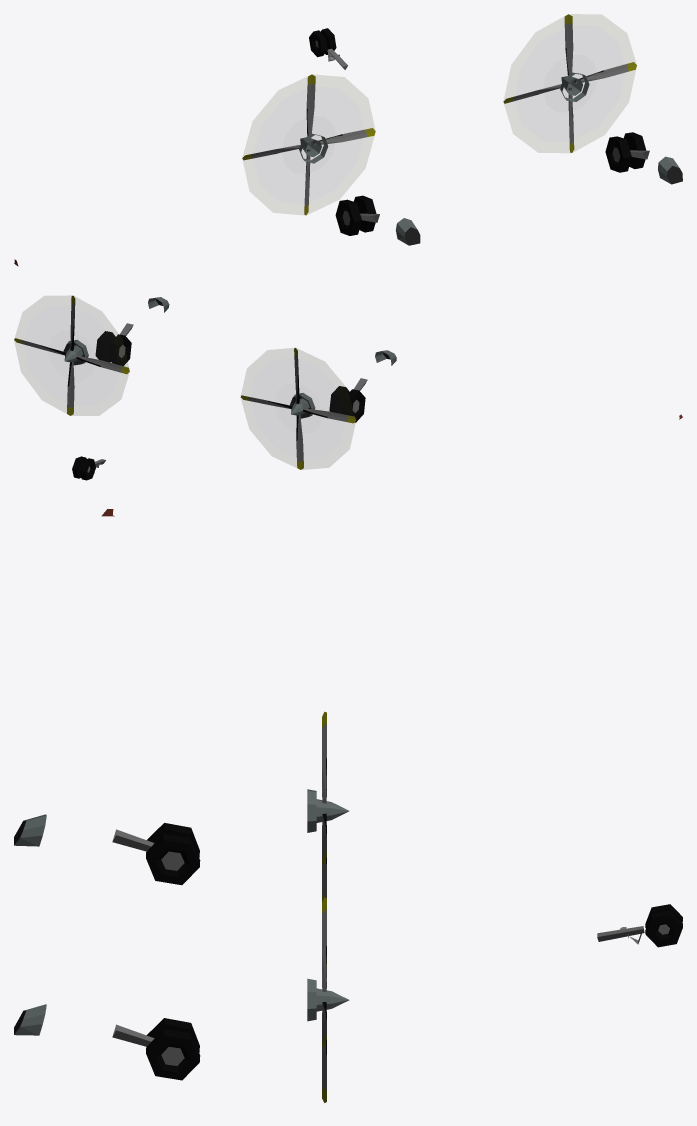
The model's file is propGearYS11.obj.
3 renders of one model, top to bottom at view 1: azimuth 30°, elevation 25°; view 2: azimuth 150°, elevation 25°; view 3: azimuth 270°, elevation 25°, orthographic. The views are drawn at different scales.
Visible parts, largest first — view 1: ShapeIndexedFaceSet.102_ShapeIndexedFaceSet.103, ShapeIndexedFaceSet.079_ShapeIndexedFaceSet.080, ShapeIndexedFaceSet.077_ShapeIndexedFaceSet.078, ShapeIndexedFaceSet.100_ShapeIndexedFaceSet.101, ShapeIndexedFaceSet.078_ShapeIndexedFaceSet.079, ShapeIndexedFaceSet.101_ShapeIndexedFaceSet.102, ShapeIndexedFaceSet.086_ShapeIndexedFaceSet.087, ShapeIndexedFaceSet.063_ShapeIndexedFaceSet.064, ShapeIndexedFaceSet.054_ShapeIndexedFaceSet.055, ShapeIndexedFaceSet.049_ShapeIndexedFaceSet.050, ShapeIndexedFaceSet.056_ShapeIndexedFaceSet.057, ShapeIndexedFaceSet.051_ShapeIndexedFaceSet.052; view 2: ShapeIndexedFaceSet.102_ShapeIndexedFaceSet.103, ShapeIndexedFaceSet.079_ShapeIndexedFaceSet.080, ShapeIndexedFaceSet.100_ShapeIndexedFaceSet.101, ShapeIndexedFaceSet.077_ShapeIndexedFaceSet.078, ShapeIndexedFaceSet.101_ShapeIndexedFaceSet.102, ShapeIndexedFaceSet.078_ShapeIndexedFaceSet.079, ShapeIndexedFaceSet.063_ShapeIndexedFaceSet.064, ShapeIndexedFaceSet.086_ShapeIndexedFaceSet.087, ShapeIndexedFaceSet.054_ShapeIndexedFaceSet.055, ShapeIndexedFaceSet.049_ShapeIndexedFaceSet.050, ShapeIndexedFaceSet.056_ShapeIndexedFaceSet.057, ShapeIndexedFaceSet.051_ShapeIndexedFaceSet.052; view 3: ShapeIndexedFaceSet.056_ShapeIndexedFaceSet.057, ShapeIndexedFaceSet.051_ShapeIndexedFaceSet.052, ShapeIndexedFaceSet.063_ShapeIndexedFaceSet.064, ShapeIndexedFaceSet.086_ShapeIndexedFaceSet.087, ShapeIndexedFaceSet.040_ShapeIndexedFaceSet.041.
Boxes of the visible parts, x1,y1,x2,y2 form: ShapeIndexedFaceSet.102_ShapeIndexedFaceSet.103: (515, 26, 624, 140); ShapeIndexedFaceSet.079_ShapeIndexedFaceSet.080: (254, 87, 363, 202); ShapeIndexedFaceSet.077_ShapeIndexedFaceSet.078: (243, 75, 374, 214); ShapeIndexedFaceSet.100_ShapeIndexedFaceSet.101: (504, 14, 636, 152); ShapeIndexedFaceSet.078_ShapeIndexedFaceSet.079: (282, 116, 335, 173); ShapeIndexedFaceSet.101_ShapeIndexedFaceSet.102: (543, 55, 596, 111); ShapeIndexedFaceSet.086_ShapeIndexedFaceSet.087: (560, 72, 679, 183); ShapeIndexedFaceSet.063_ShapeIndexedFaceSet.064: (299, 133, 417, 245); ShapeIndexedFaceSet.054_ShapeIndexedFaceSet.055: (605, 136, 631, 172); ShapeIndexedFaceSet.049_ShapeIndexedFaceSet.050: (335, 199, 361, 235); ShapeIndexedFaceSet.056_ShapeIndexedFaceSet.057: (624, 132, 646, 168); ShapeIndexedFaceSet.051_ShapeIndexedFaceSet.052: (354, 195, 376, 232); ShapeIndexedFaceSet.102_ShapeIndexedFaceSet.103: (24, 306, 119, 405); ShapeIndexedFaceSet.079_ShapeIndexedFaceSet.080: (251, 358, 345, 459); ShapeIndexedFaceSet.100_ShapeIndexedFaceSet.101: (14, 296, 128, 415); ShapeIndexedFaceSet.077_ShapeIndexedFaceSet.078: (241, 348, 355, 469); ShapeIndexedFaceSet.101_ShapeIndexedFaceSet.102: (49, 331, 94, 379); ShapeIndexedFaceSet.078_ShapeIndexedFaceSet.079: (275, 384, 321, 433); ShapeIndexedFaceSet.063_ShapeIndexedFaceSet.064: (291, 350, 396, 416); ShapeIndexedFaceSet.086_ShapeIndexedFaceSet.087: (64, 297, 169, 363); ShapeIndexedFaceSet.054_ShapeIndexedFaceSet.055: (109, 334, 131, 366); ShapeIndexedFaceSet.049_ShapeIndexedFaceSet.050: (343, 389, 365, 422); ShapeIndexedFaceSet.056_ShapeIndexedFaceSet.057: (95, 331, 115, 362); ShapeIndexedFaceSet.051_ShapeIndexedFaceSet.052: (329, 386, 349, 414); ShapeIndexedFaceSet.056_ShapeIndexedFaceSet.057: (146, 1029, 200, 1080); ShapeIndexedFaceSet.051_ShapeIndexedFaceSet.052: (146, 834, 200, 885); ShapeIndexedFaceSet.063_ShapeIndexedFaceSet.064: (14, 789, 349, 846); ShapeIndexedFaceSet.086_ShapeIndexedFaceSet.087: (14, 978, 349, 1035); ShapeIndexedFaceSet.040_ShapeIndexedFaceSet.041: (645, 910, 682, 947).
Size of what is drawn, in the model's own units: 226 by 44.16 by 129.
